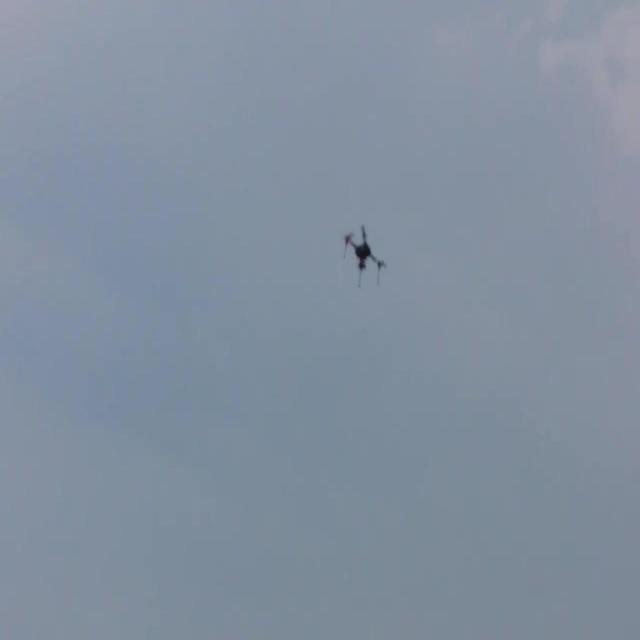drone: (342, 221, 388, 291)
